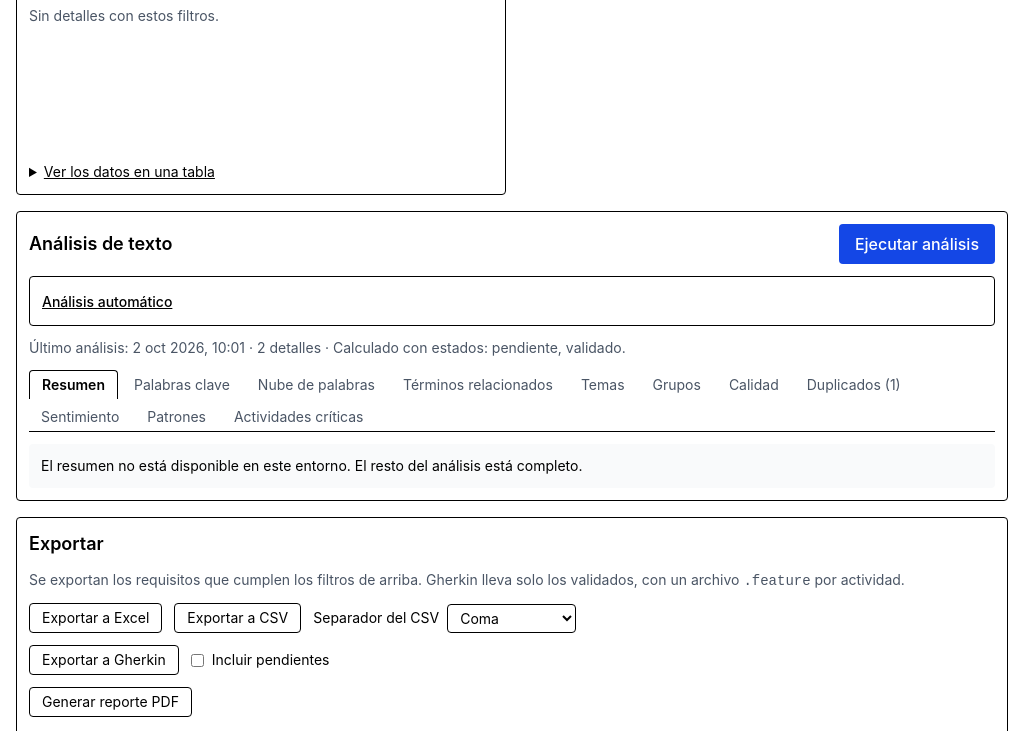
Test: calidad de los requisitos › un error al guardar muestra el motivo
(page scrolled)
Click the tab "Calidad". click: point(754, 384)
box: [717,370,791,399]
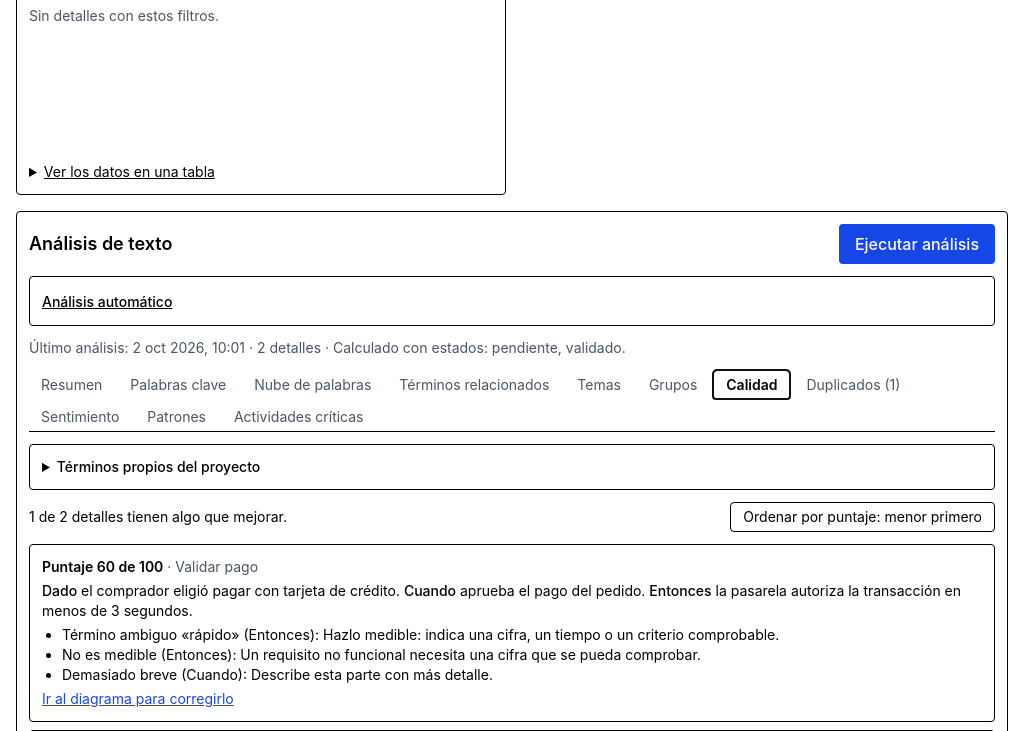
Click the heading "Términos propios del proyecto". click: point(159, 466)
box: [57,458,260,475]
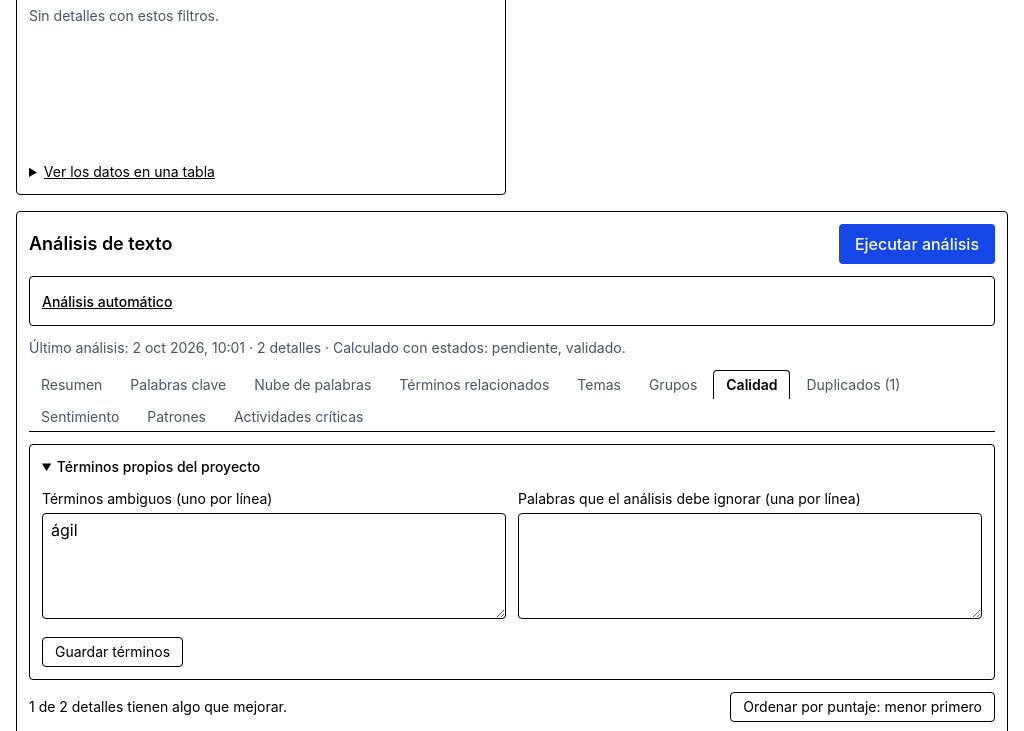
Now the button "Guardar términos" is enabled
Click the button "Guardar términos". click: point(113, 652)
box: [42,637,183,667]
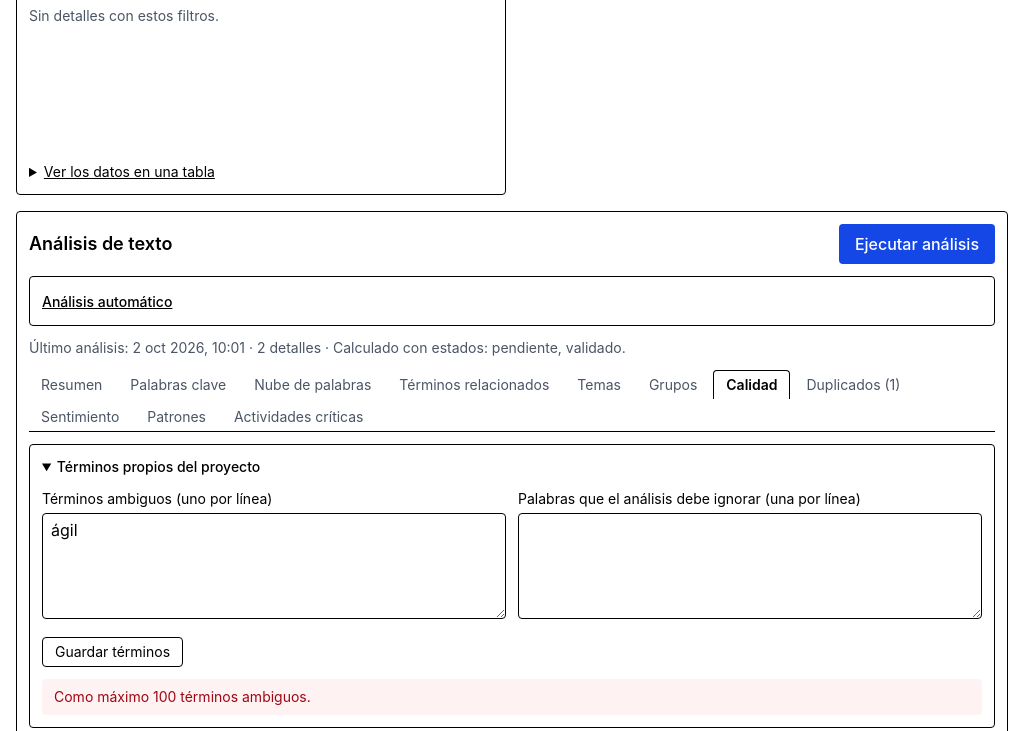
Now the message reads "Como máximo 100 términos ambiguos.", box [54,688,311,705]
